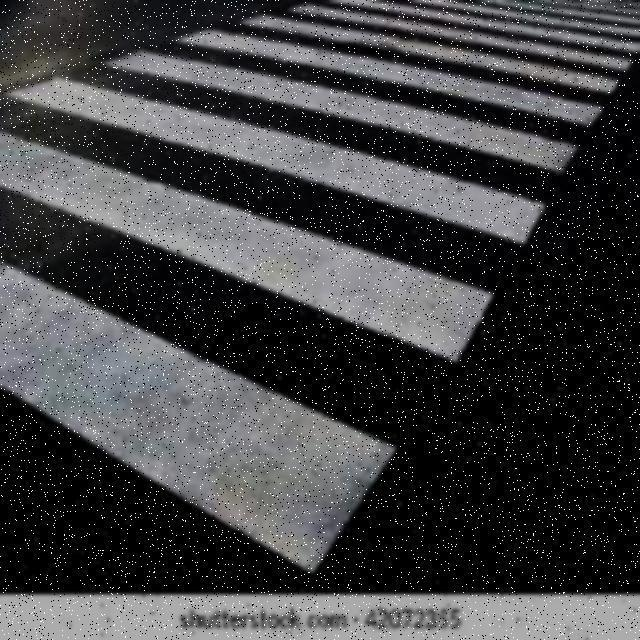Pedestrian crosswalk: (0, 0, 638, 583)
